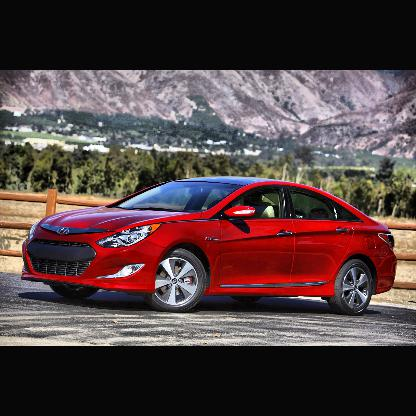Hyundai Sonata Hybrid Sedan 2012: (21, 176, 398, 314)
